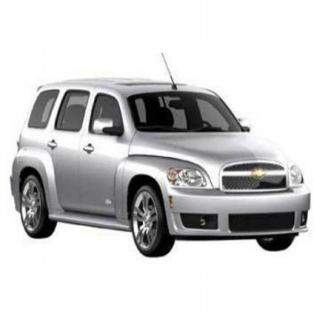Auto: (10, 54, 310, 258)
